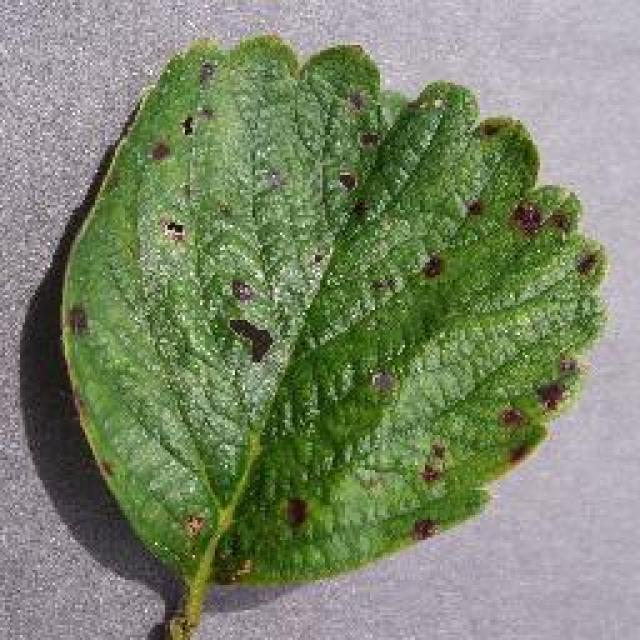Strawberry leaf scorch: (136, 135, 486, 422)
